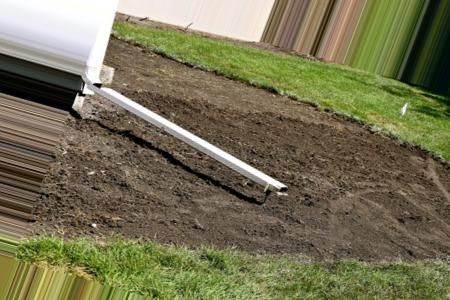patch: (97, 167, 218, 239), (173, 68, 222, 122), (249, 105, 300, 155), (344, 148, 384, 206), (51, 188, 95, 231), (344, 218, 405, 245), (251, 212, 288, 246), (309, 183, 335, 225), (404, 170, 435, 201), (421, 215, 440, 246)
